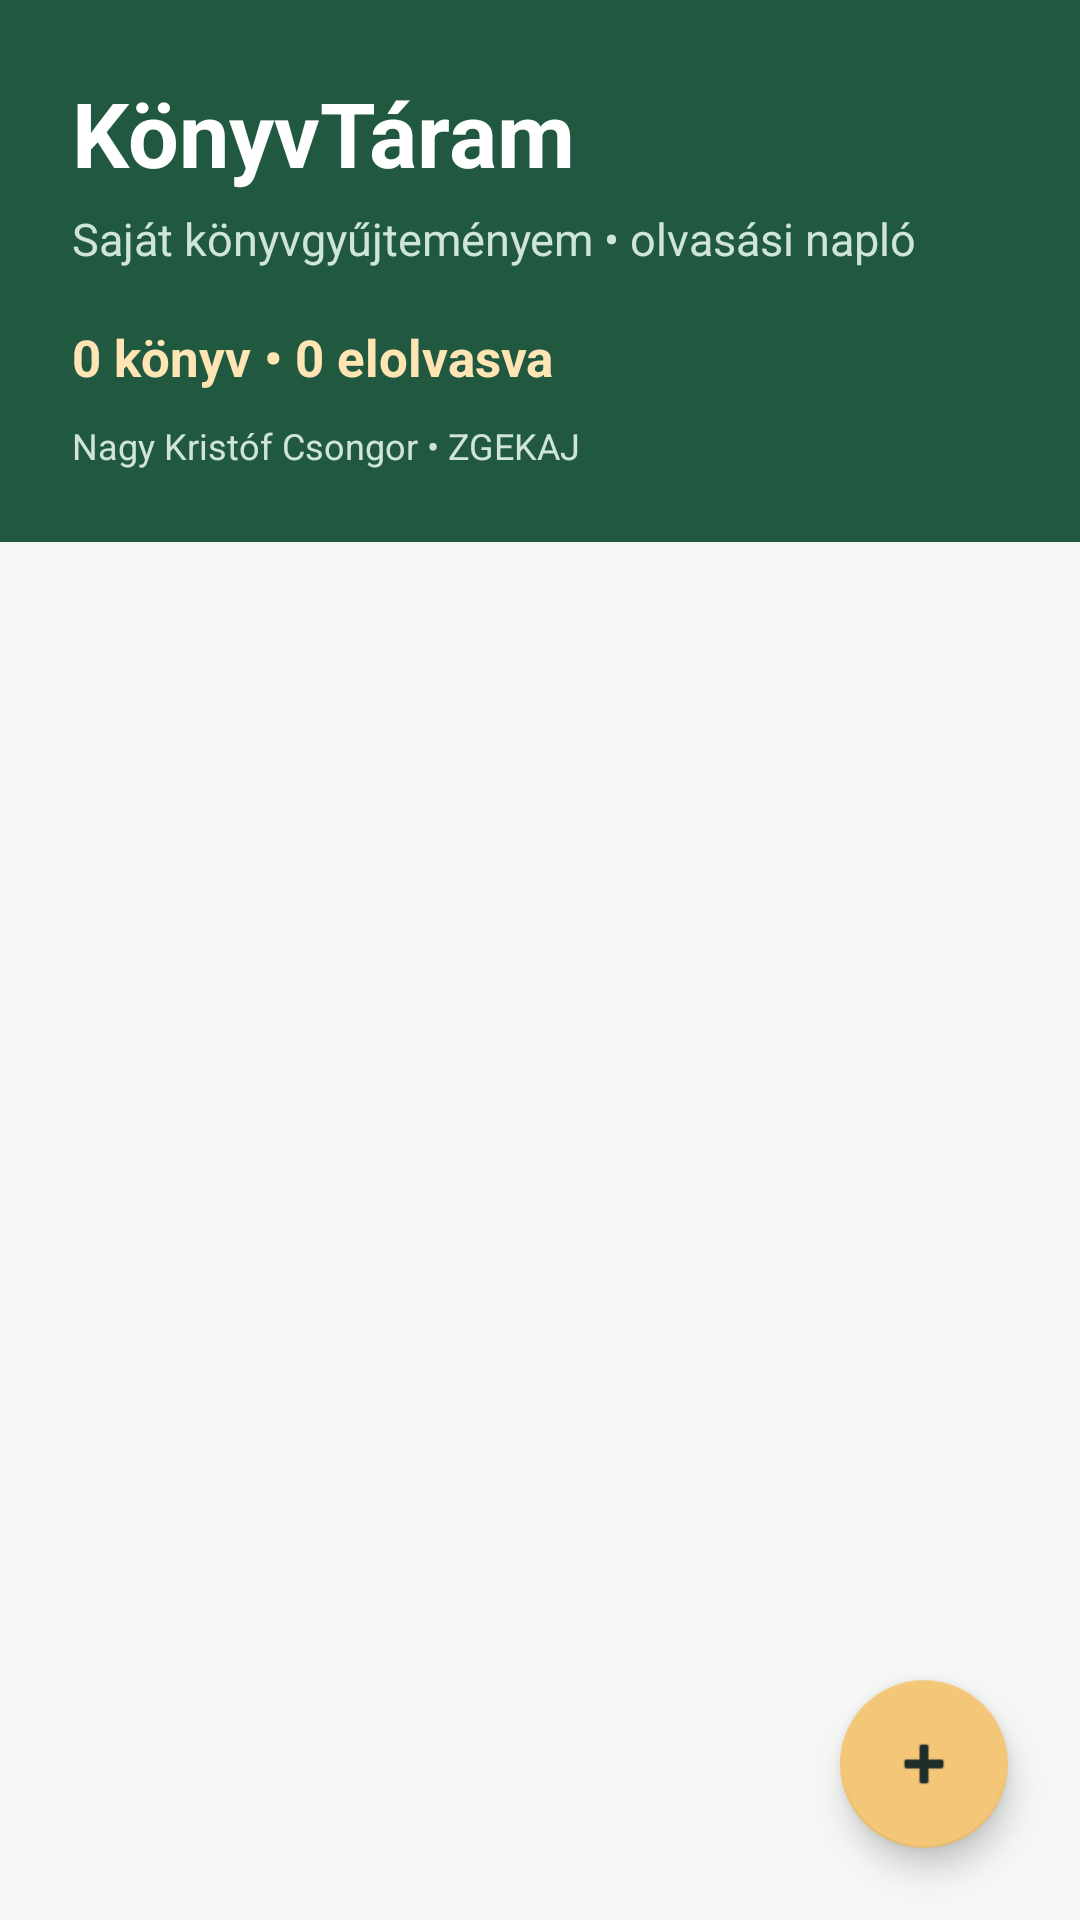

Point at icon controls on the screen. Image size 1080*1920, points as (x,y).
Új könyv hozzáadása: (924,1764)
